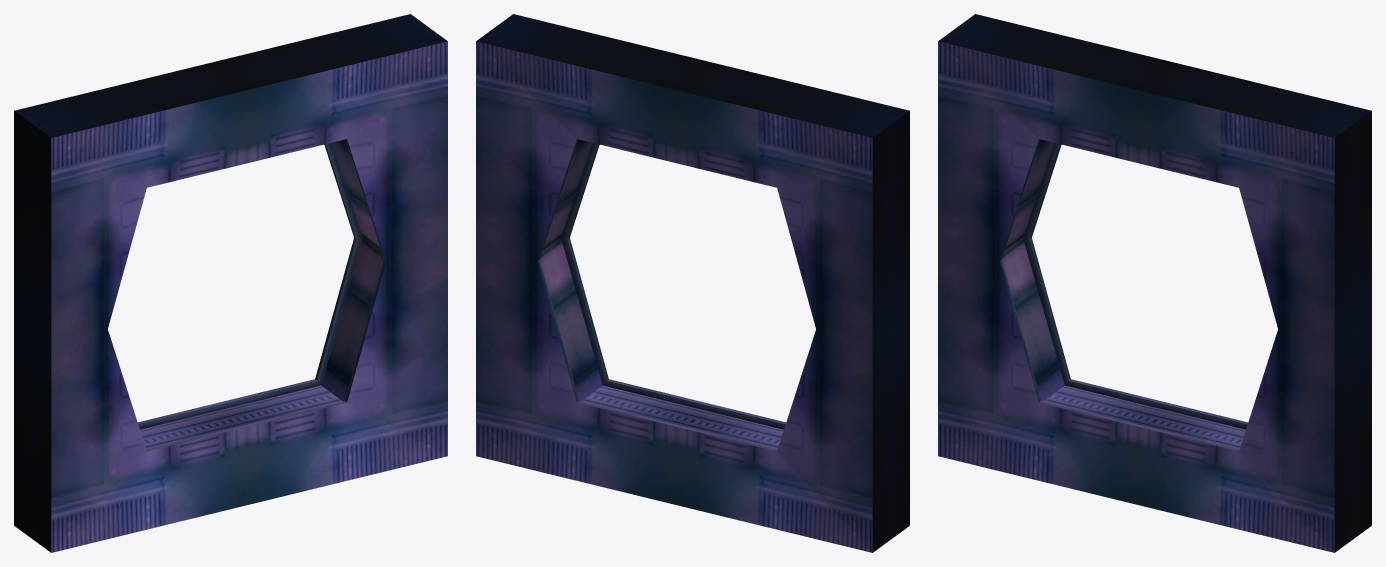
The model's file is DoorFrame.fbx.
3 renders of one model, left to right at view 1: azimuth 30°, elevation 25°; view 2: azimuth 150°, elevation 25°; view 3: azimuth 330°, elevation 25°, orthographic.
Parts seen in each view (by area): view 1: DoorFrame; view 2: DoorFrame; view 3: DoorFrame.
Part boxes in pixels (x1,y1,x2,y2): DoorFrame: (14,14,447,552); DoorFrame: (476,14,909,552); DoorFrame: (938,14,1371,552).
Size of the model in its own units: 678 by 678 by 110.
